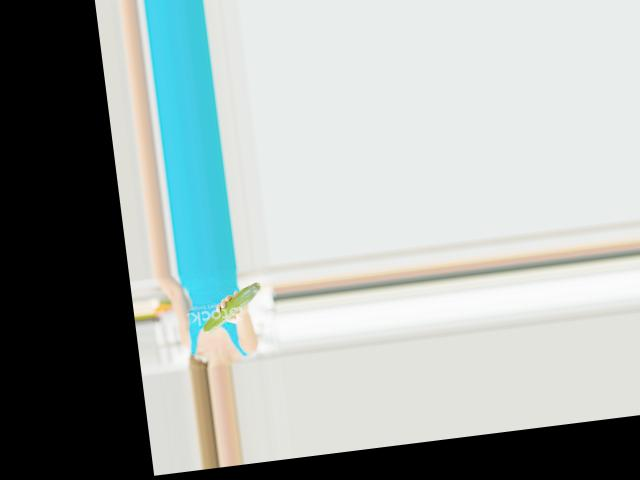cucumber: (197, 281, 264, 333)
